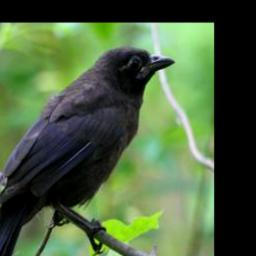Crow: (0, 44, 175, 256)
